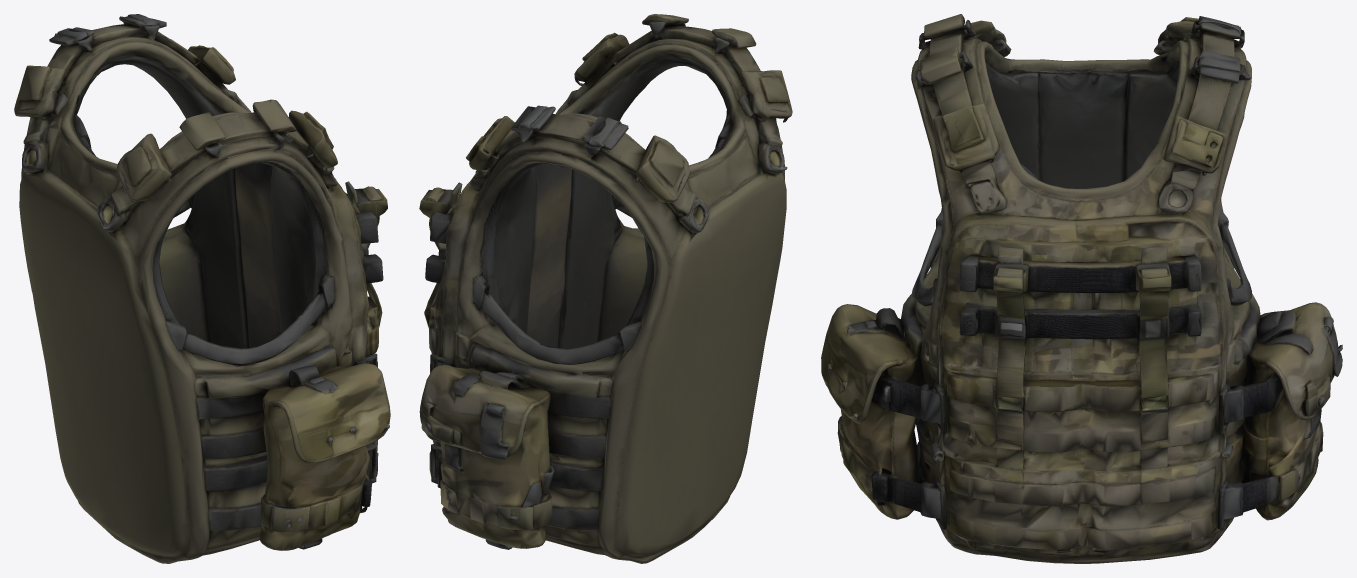
File: vest.glb
3 views of the same model, side by side, from view 1: azimuth 30°, elevation 25°; view 2: azimuth 150°, elevation 25°; view 3: azimuth 270°, elevation 25° (orthographic). The views are drawn at different scales.
Bounding box in the file's own units: 0.6572 × 0.999 × 0.9718.
Materials: 1 (1 with a texture image).
